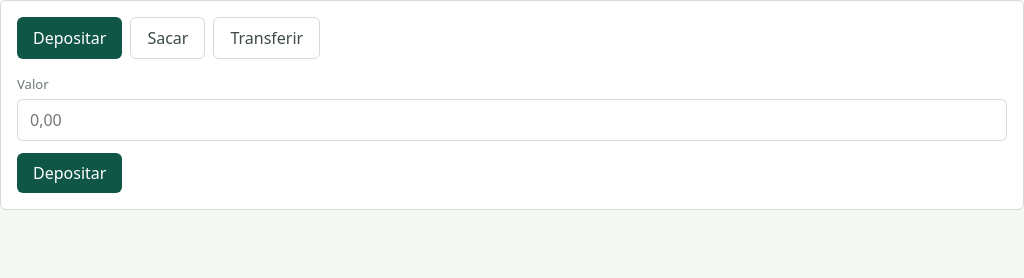
Test: erro da API › o botão volta a funcionar depois da falha
Type "10" into the field labelled "Valor" at (512, 120), box left=17, top=99, right=1007, bottom=141
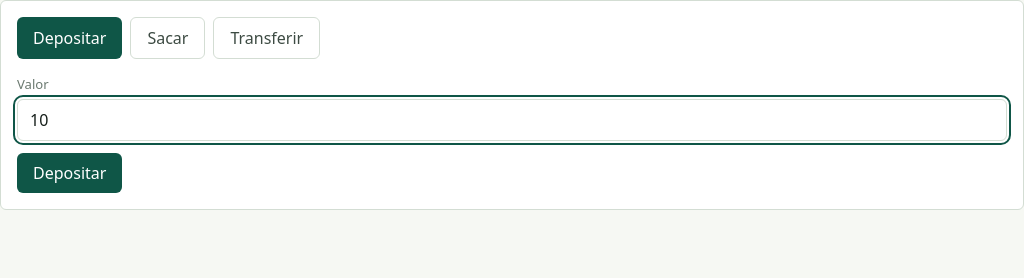
Click the button "Depositar" at (70, 173), box left=17, top=153, right=122, bottom=193
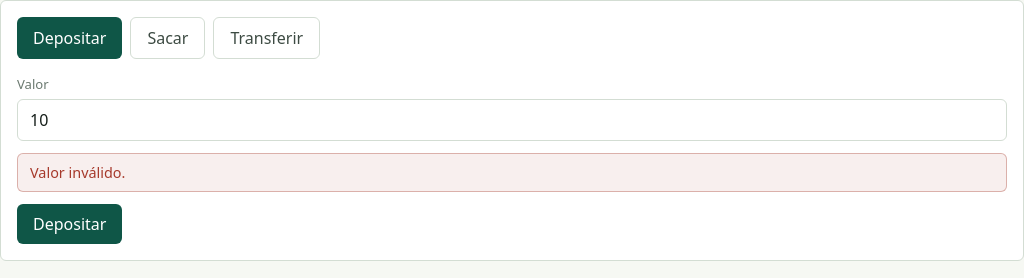
Expected: the button "Depositar" is enabled, left=17, top=204, right=122, bottom=244
Expected: the message "Valor inválido." is shown, left=17, top=153, right=1007, bottom=192
